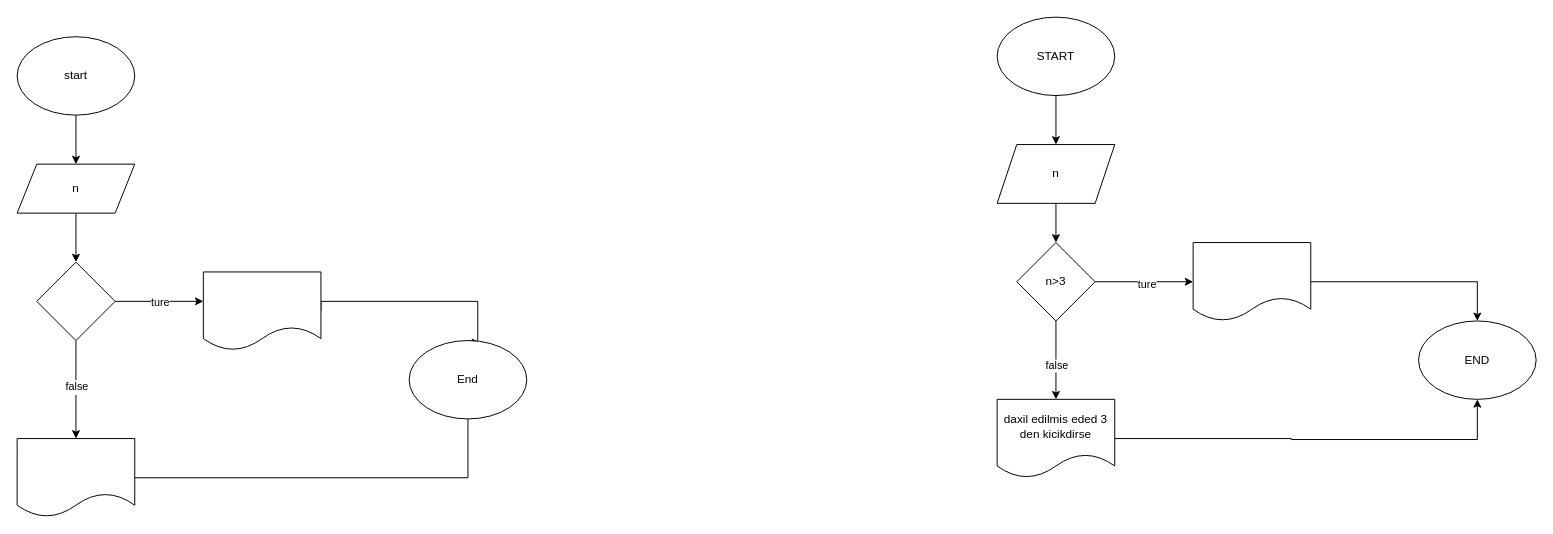
This 1553x534 diagram has some shape labels left out. Here are the shapes that lost their labels. From the top down, the centre of each, then its label:
(x=75, y=301): n==3
(x=1251, y=281): daxil edilen eded 3 reqeminden boyukdurse
(x=261, y=310): eded 3 reqemlidir
(x=75, y=477): eded 3 reqemli deyil
